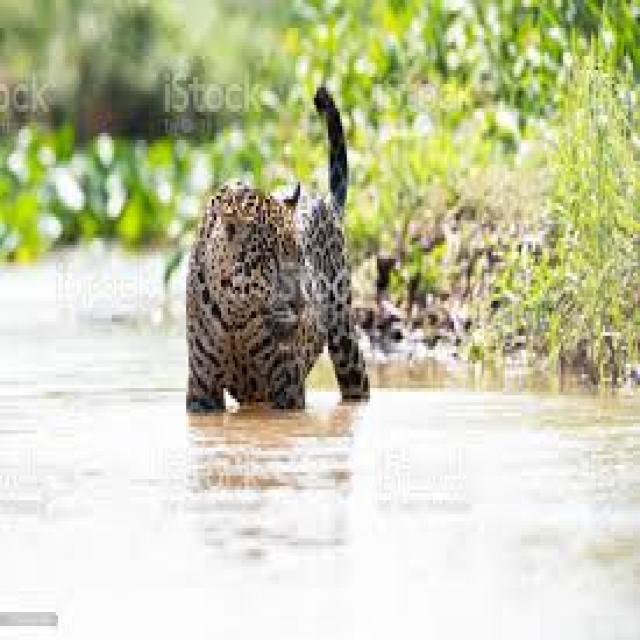Jaguar: (184, 84, 372, 416)
